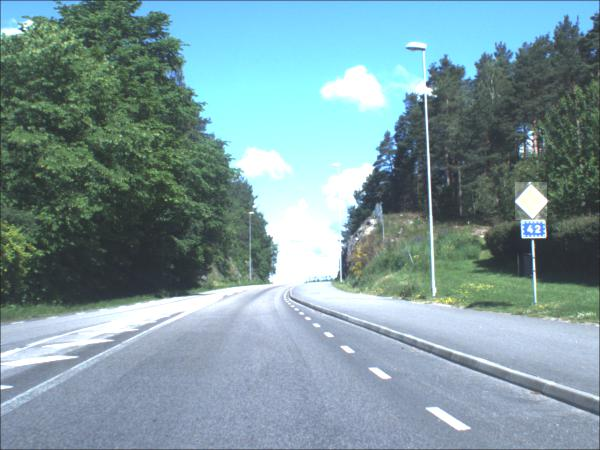PRIORITY_ROAD: (516, 183, 549, 222)
